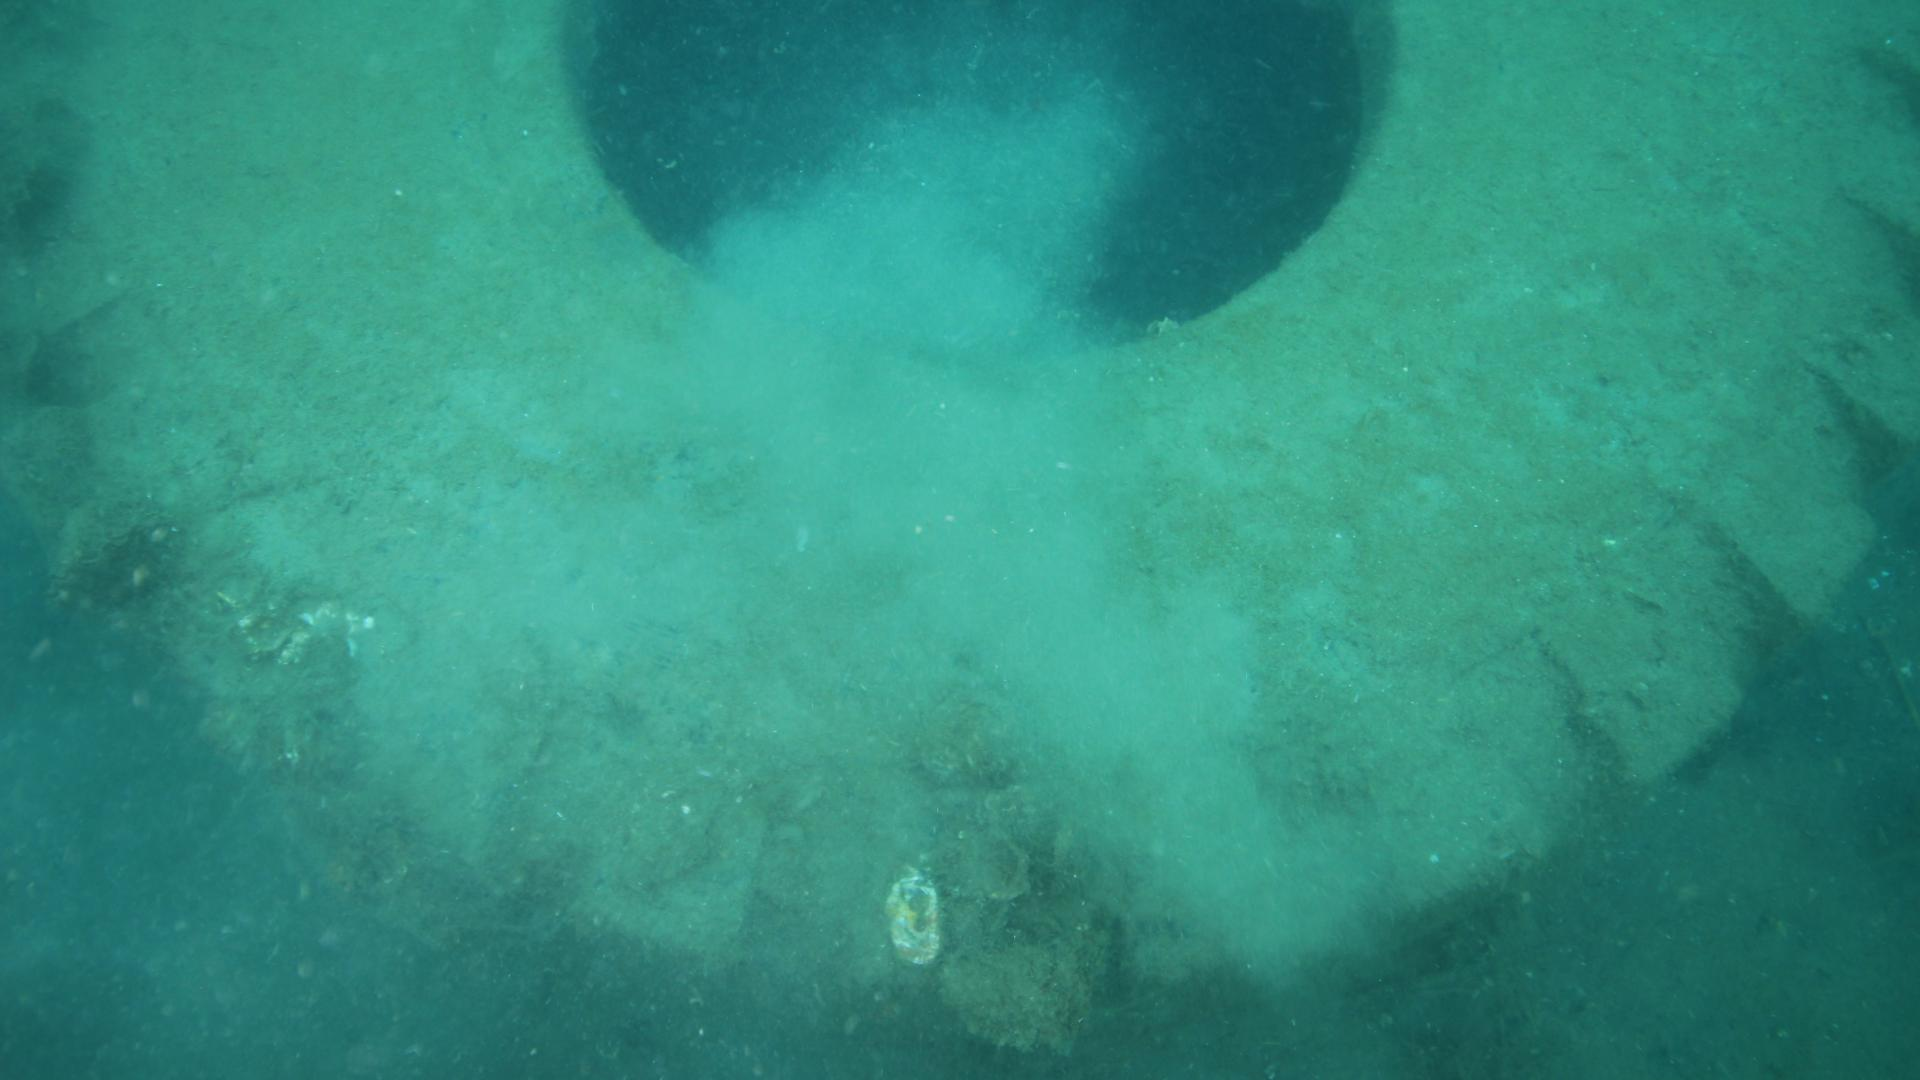tire: (0, 0, 1920, 1046)
